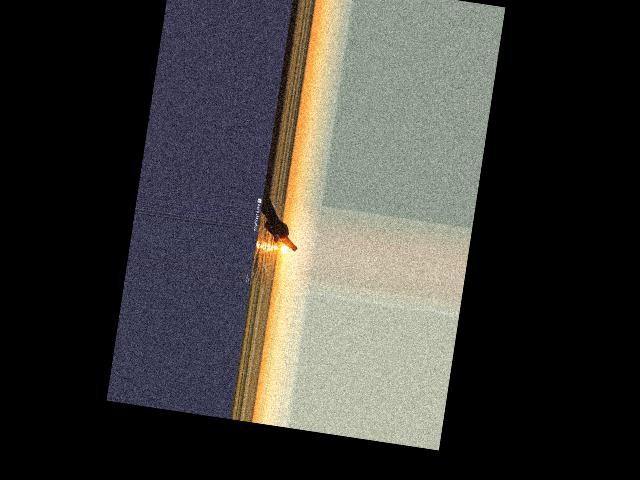beer: (261, 219, 301, 251)
